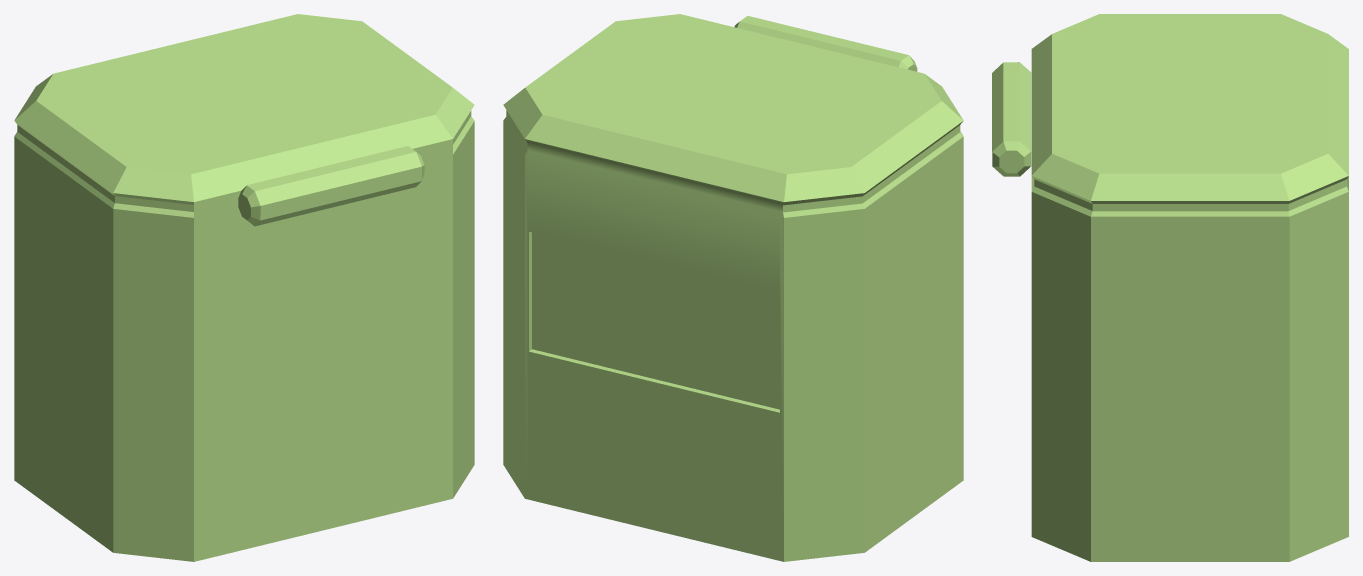
Rendered from PlasticContainer.fbx.
3 views of the same model, side by side, from view 1: azimuth 30°, elevation 25°; view 2: azimuth 150°, elevation 25°; view 3: azimuth 270°, elevation 25° (orthographic).
Visible parts, largest first — view 1: Plastic Container; view 2: Plastic Container; view 3: Plastic Container.
Part boxes in pixels (x1,y1,x2,y2): Plastic Container: [14, 14, 474, 561]; Plastic Container: [503, 14, 963, 561]; Plastic Container: [992, 14, 1348, 561].
Size of the model in its own units: 20.01 by 20.01 by 17.04.
